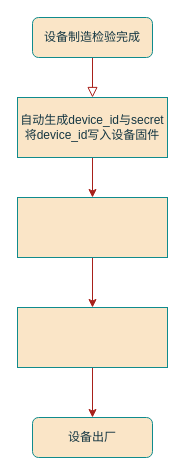
The diagram is 185 pixels wide and 475 high, and some of its shapes have lost their labels. The shapes that lost their labels are listed below. From the top down, each one's centre as x and y in pixels, then its label:
At point (92, 227): "使用device_id与secret 自动调用创建设备API 在后端进行注册，获取uuid".
At point (92, 337): "将uuid与其对应的二维码 印刷到设备背面".
